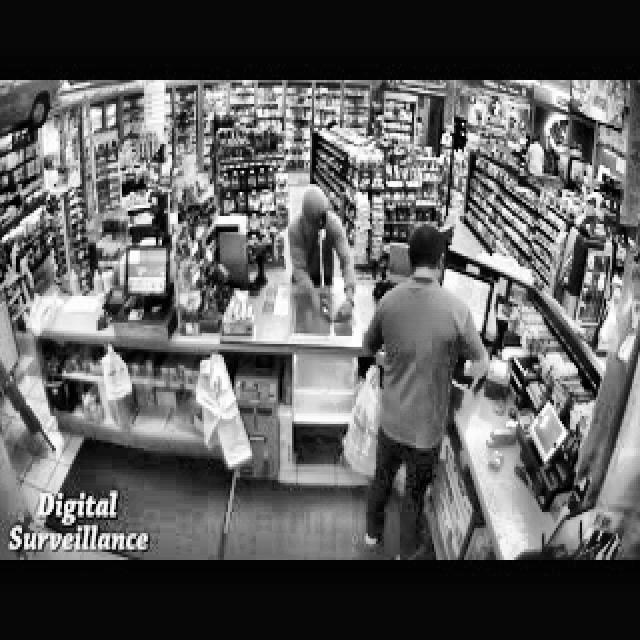robbery: (288, 185, 358, 332)
